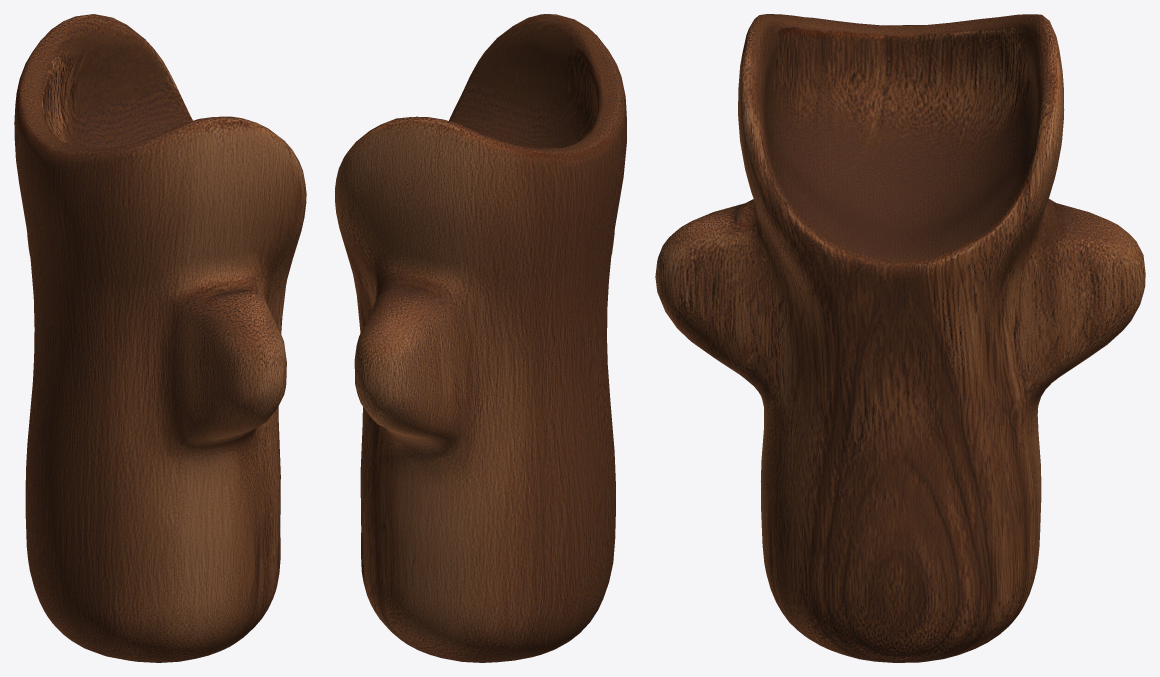
File: spiseredskap_10.glb
3 renders of one model, left to right at view 1: azimuth 30°, elevation 25°; view 2: azimuth 150°, elevation 25°; view 3: azimuth 270°, elevation 25°, orthographic. The views are drawn at different scales.
Visible parts, largest first — view 1: tripo_node_db72c350-d2a0-4dad-96cf-c5bcd9d958ed; view 2: tripo_node_db72c350-d2a0-4dad-96cf-c5bcd9d958ed; view 3: tripo_node_db72c350-d2a0-4dad-96cf-c5bcd9d958ed.
Boxes of the visible parts, box(x1,y1,x2,y2) form: tripo_node_db72c350-d2a0-4dad-96cf-c5bcd9d958ed: box(14, 14, 306, 662); tripo_node_db72c350-d2a0-4dad-96cf-c5bcd9d958ed: box(335, 14, 626, 662); tripo_node_db72c350-d2a0-4dad-96cf-c5bcd9d958ed: box(655, 14, 1145, 662).
Bounding box in the file's own units: 0.4086 × 0.9806 × 0.7247.
Materials: 1 (1 with a texture image).
